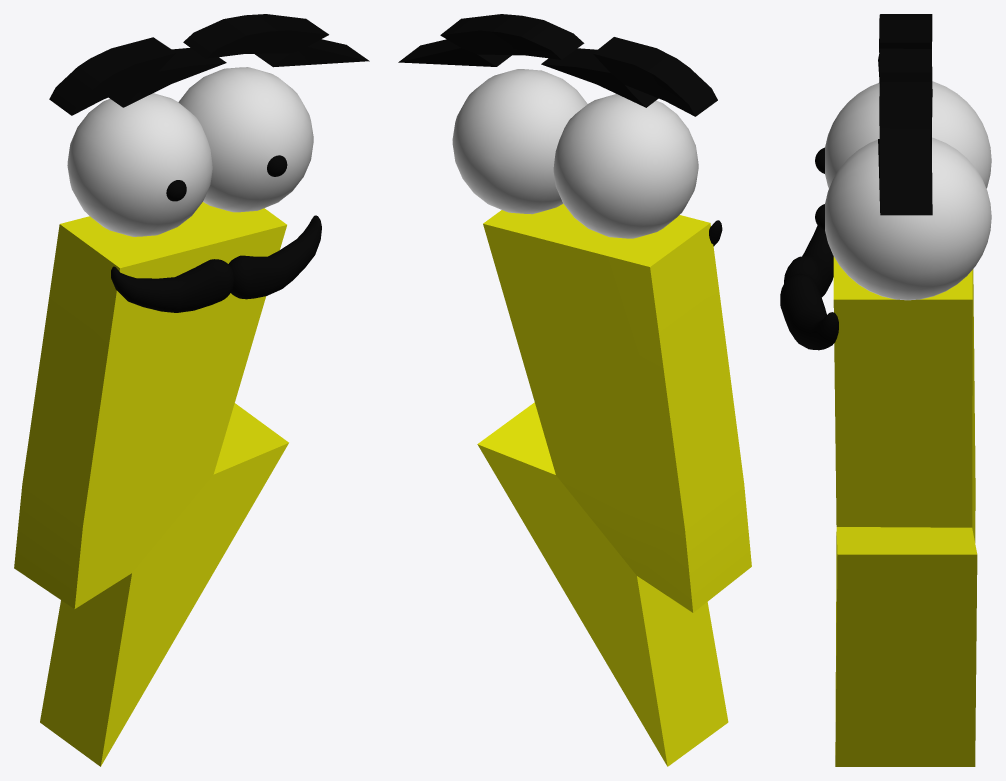
File: Thunder.fbx
3 renders of one model, left to right at view 1: azimuth 30°, elevation 25°; view 2: azimuth 150°, elevation 25°; view 3: azimuth 270°, elevation 25°, orthographic. The views are drawn at different scales.
Visible parts, largest first — view 1: polySurface11; view 2: polySurface11; view 3: polySurface11.
Boxes of the visible parts, x1,y1,x2,y2 form: polySurface11: [14, 14, 369, 766]; polySurface11: [398, 14, 751, 766]; polySurface11: [780, 14, 991, 766].
Bounding box in the file's own units: 2.98 × 6.14 × 1.51.
